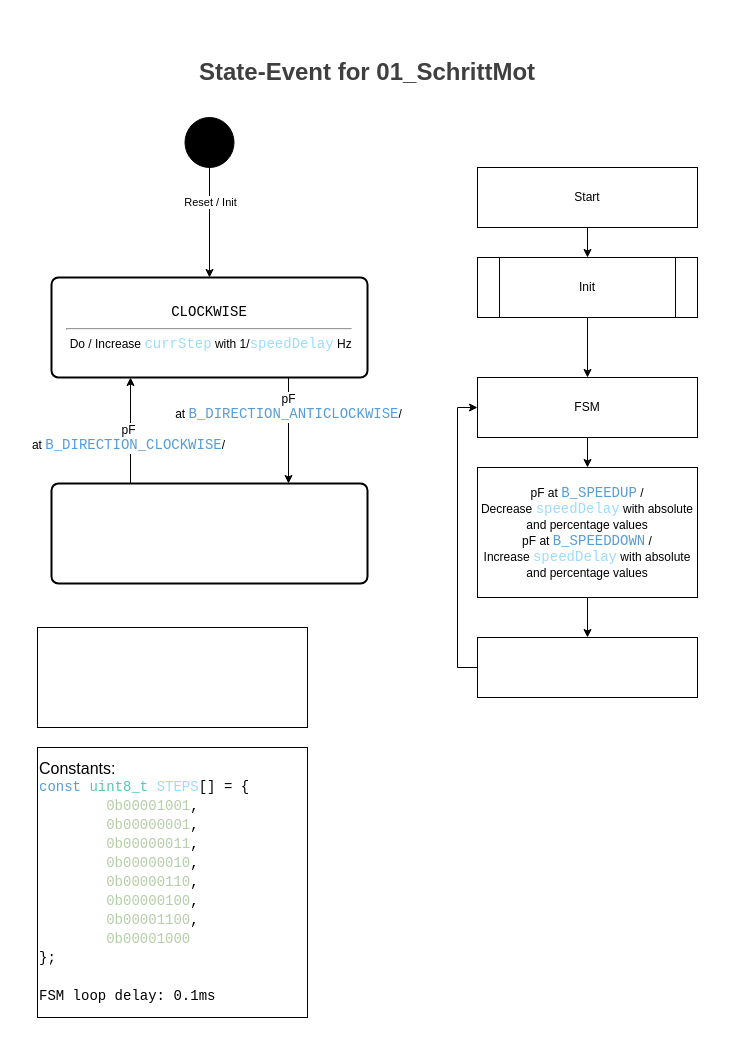
Image size: 734x1054. Some labels were removed from this diagram. Here are the shapes that lost their labels. From the top down, the centre of each, then its label:
At (209,533): "ANTICLOKWISE Do / Decrease currStep with 1/ speedDelay Hz".
At (172,677): "Legend pF = positive Flank".
At (587,667): "Do/Write OUT according to STEPS [ currStep ]".
